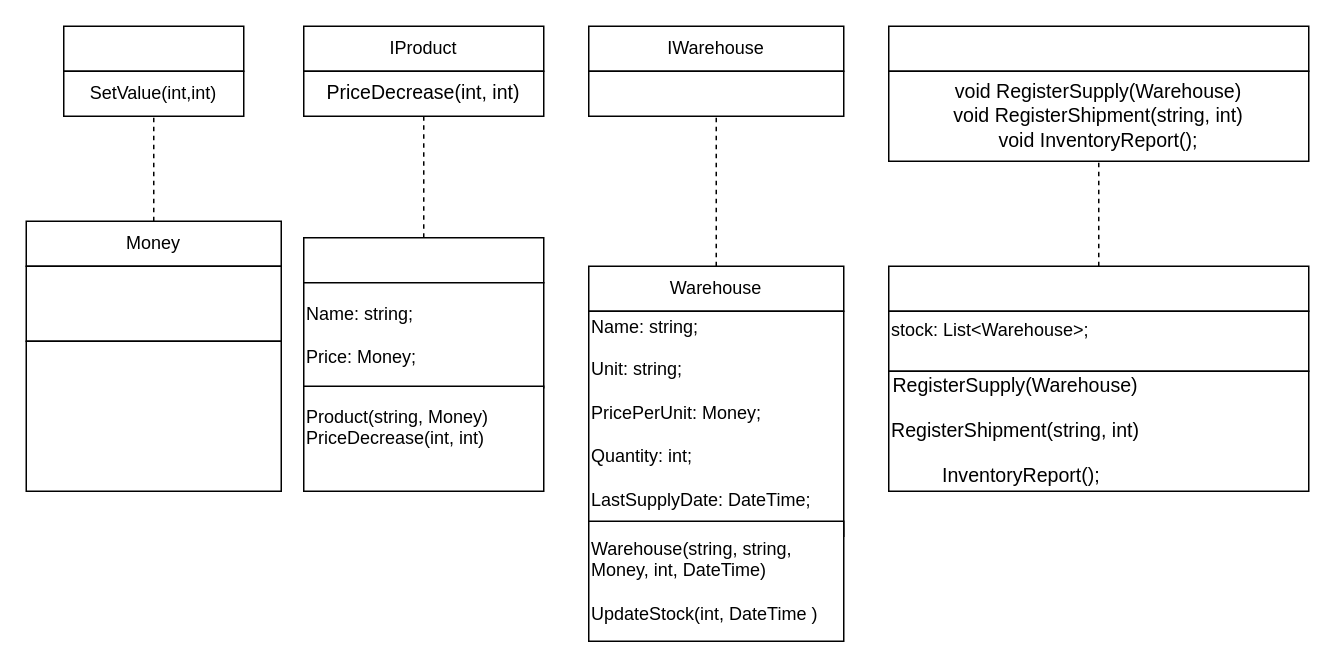
Some shapes in this 1335 by 668 pixel diagram are drawn without their labels. The shapes that lost their labels are listed below. From the top down, each one's box as (x1, y1, x2, y2) in pixels, then its label:
(62, 25, 244, 71): IMoney
(887, 25, 1309, 71): IReporting
(587, 70, 844, 116): UpdateStock ( int , DateTime )
(302, 236, 544, 283): Product
(25, 265, 281, 341): Cash: int; Cents: int;
(887, 265, 1309, 311): Reporting
(25, 340, 281, 491): Money (int, int) SetCash(int, int) ToString()
